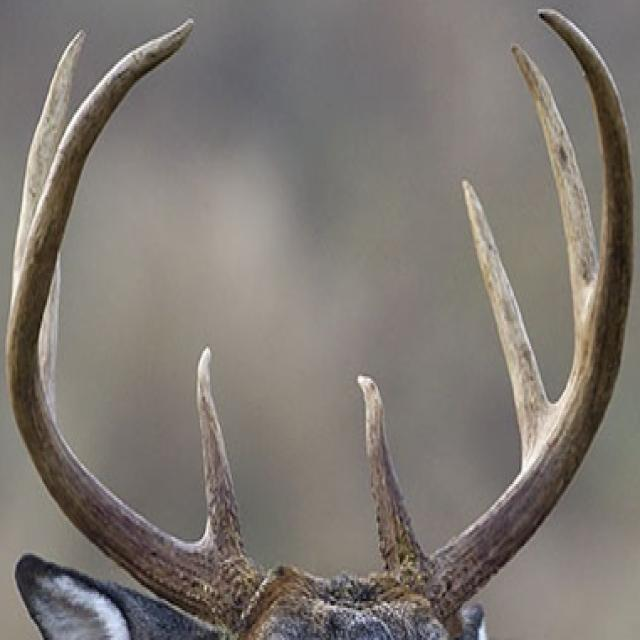L-F: (395, 7, 635, 620)
L-G1: (354, 371, 427, 576)
L-G2: (461, 177, 557, 468)
L-G3: (510, 41, 600, 365)
R-F: (4, 17, 270, 631)
R-G1: (196, 345, 246, 553)
